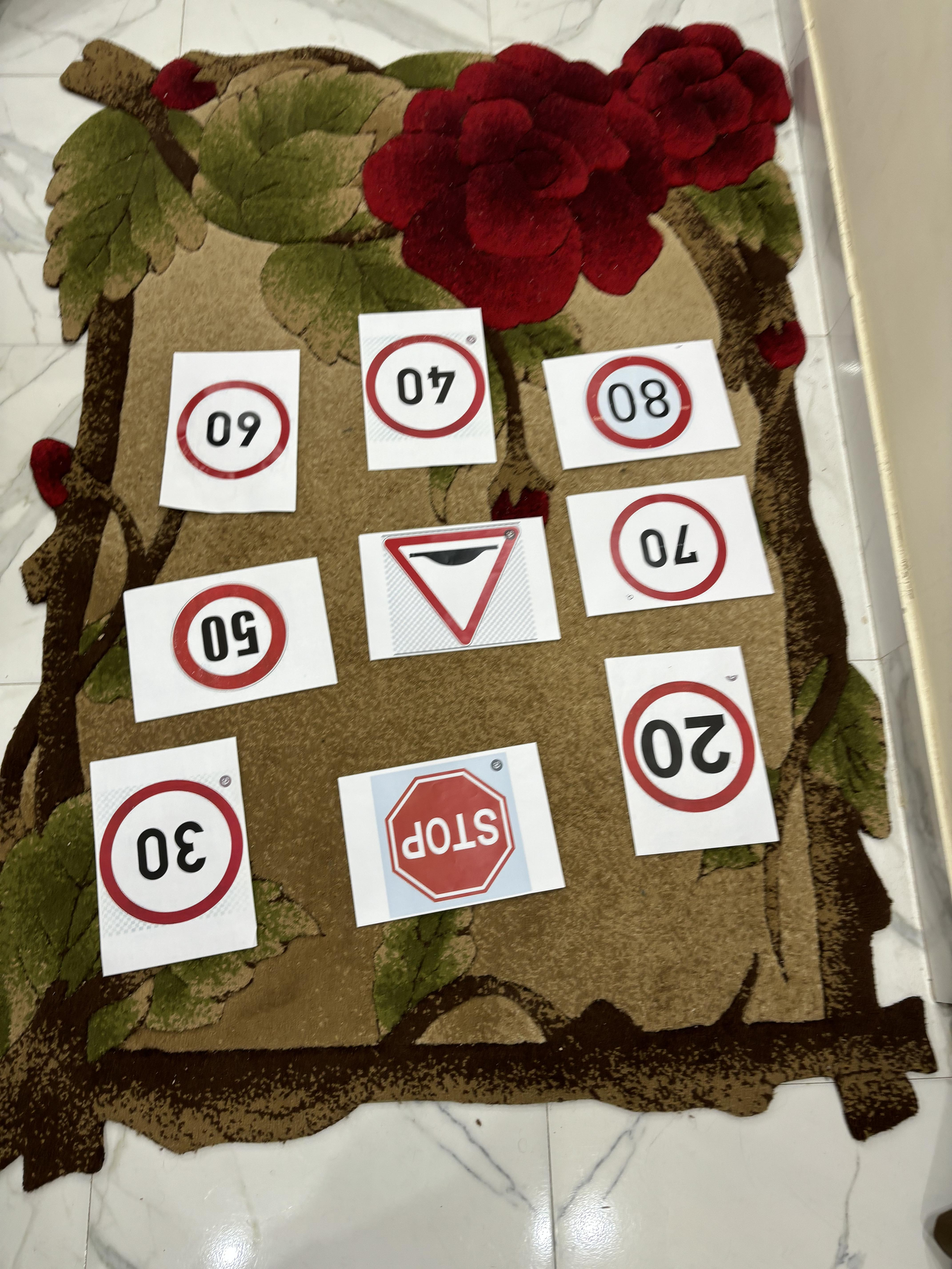20-Speed: (619, 678, 758, 813)
30-speed: (97, 771, 240, 938)
40-Speed: (363, 323, 487, 445)
50-Speed: (168, 583, 296, 701)
60-Speed: (173, 365, 296, 484)
70-Speed: (607, 489, 729, 602)
80-Speed: (582, 349, 698, 456)
Hump: (381, 520, 527, 645)
Stop: (381, 762, 523, 901)
